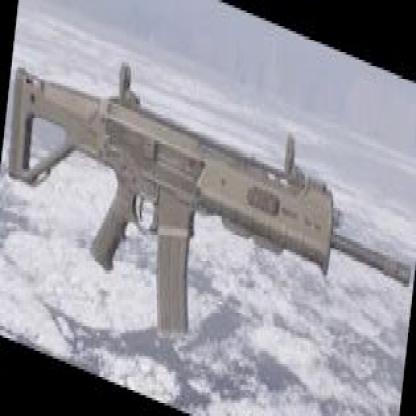rifle: (0, 28, 414, 416)
